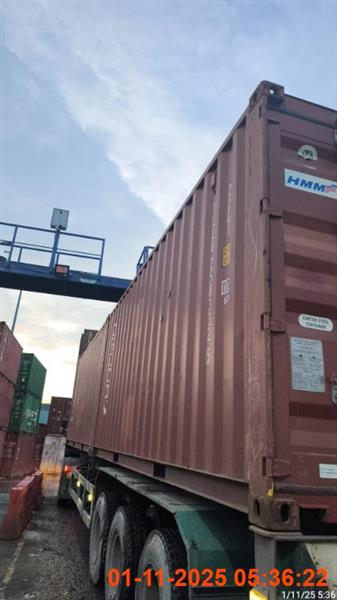dent: (57, 82, 335, 599)
